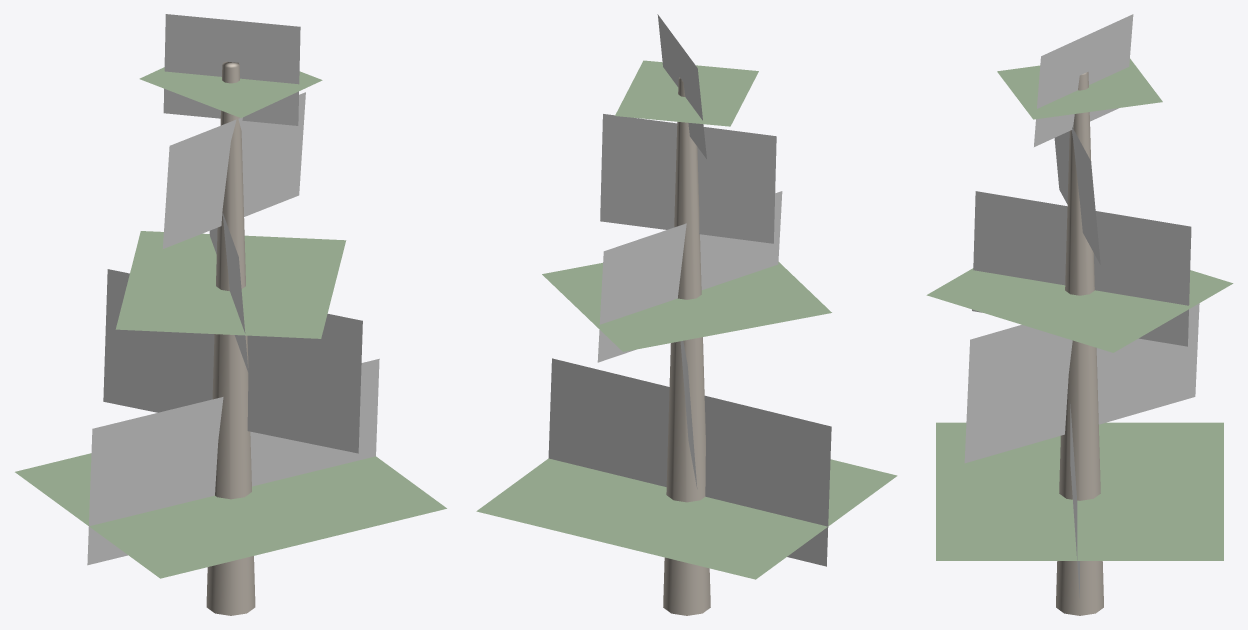
Rendered from conifer-v1.lod2.glb.
3 views of the same model, side by side, from view 1: azimuth 30°, elevation 25°; view 2: azimuth 150°, elevation 25°; view 3: azimuth 270°, elevation 25° (orthographic). The views are drawn at different scales.
Visible parts, largest first — view 1: conifer-v1.lod2; view 2: conifer-v1.lod2; view 3: conifer-v1.lod2.
Part boxes in pixels (x1,y1,x2,y2): conifer-v1.lod2: (15,14,446,615); conifer-v1.lod2: (476,14,897,615); conifer-v1.lod2: (926,14,1233,615).
Size of the model in its own units: 6 by 11.6 by 5.64.
